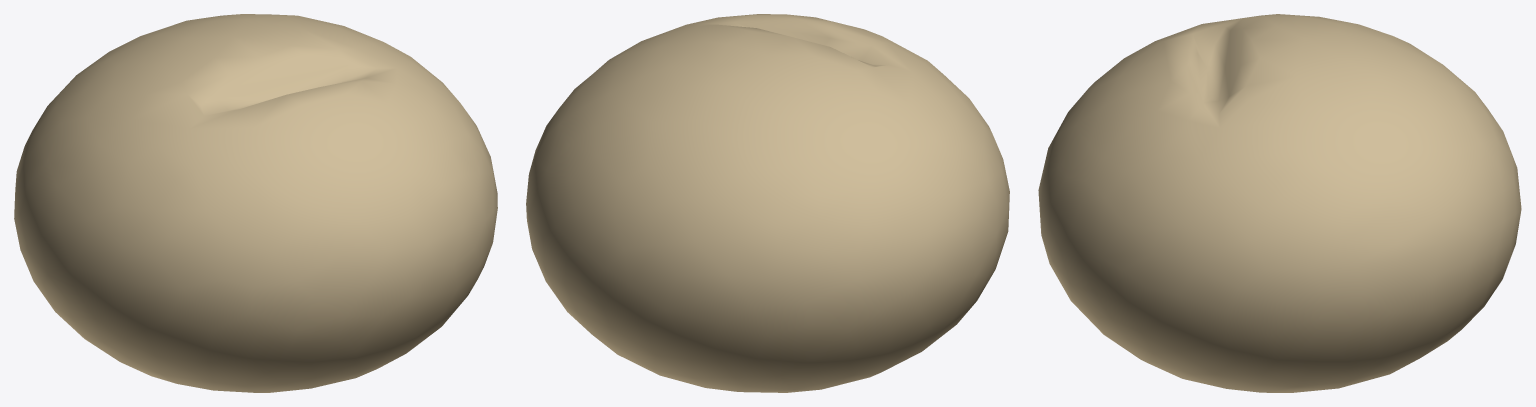
The model's file is bot_khoi_nhao.glb.
3 renders of one model, left to right at view 1: azimuth 30°, elevation 25°; view 2: azimuth 150°, elevation 25°; view 3: azimuth 270°, elevation 25°, orthographic.
Parts seen in each view (by area): view 1: bot_khoi_nhao; view 2: bot_khoi_nhao; view 3: bot_khoi_nhao.
Boxes of the visible parts, left/top/right/bottom form: bot_khoi_nhao: left=14, top=14, right=497, bottom=392; bot_khoi_nhao: left=526, top=14, right=1009, bottom=392; bot_khoi_nhao: left=1038, top=14, right=1521, bottom=392.
Bounding box in the file's own units: 0.1499 × 0.1042 × 0.15.
